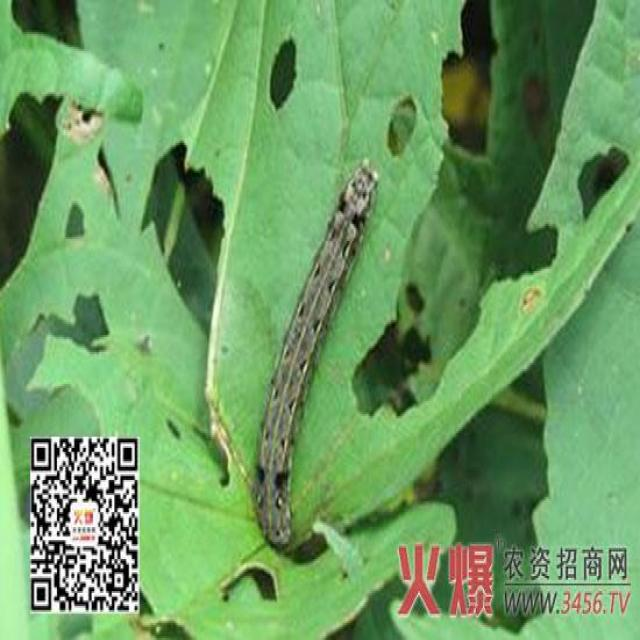BeetArmyWorm-Larva-: (246, 153, 384, 554)
